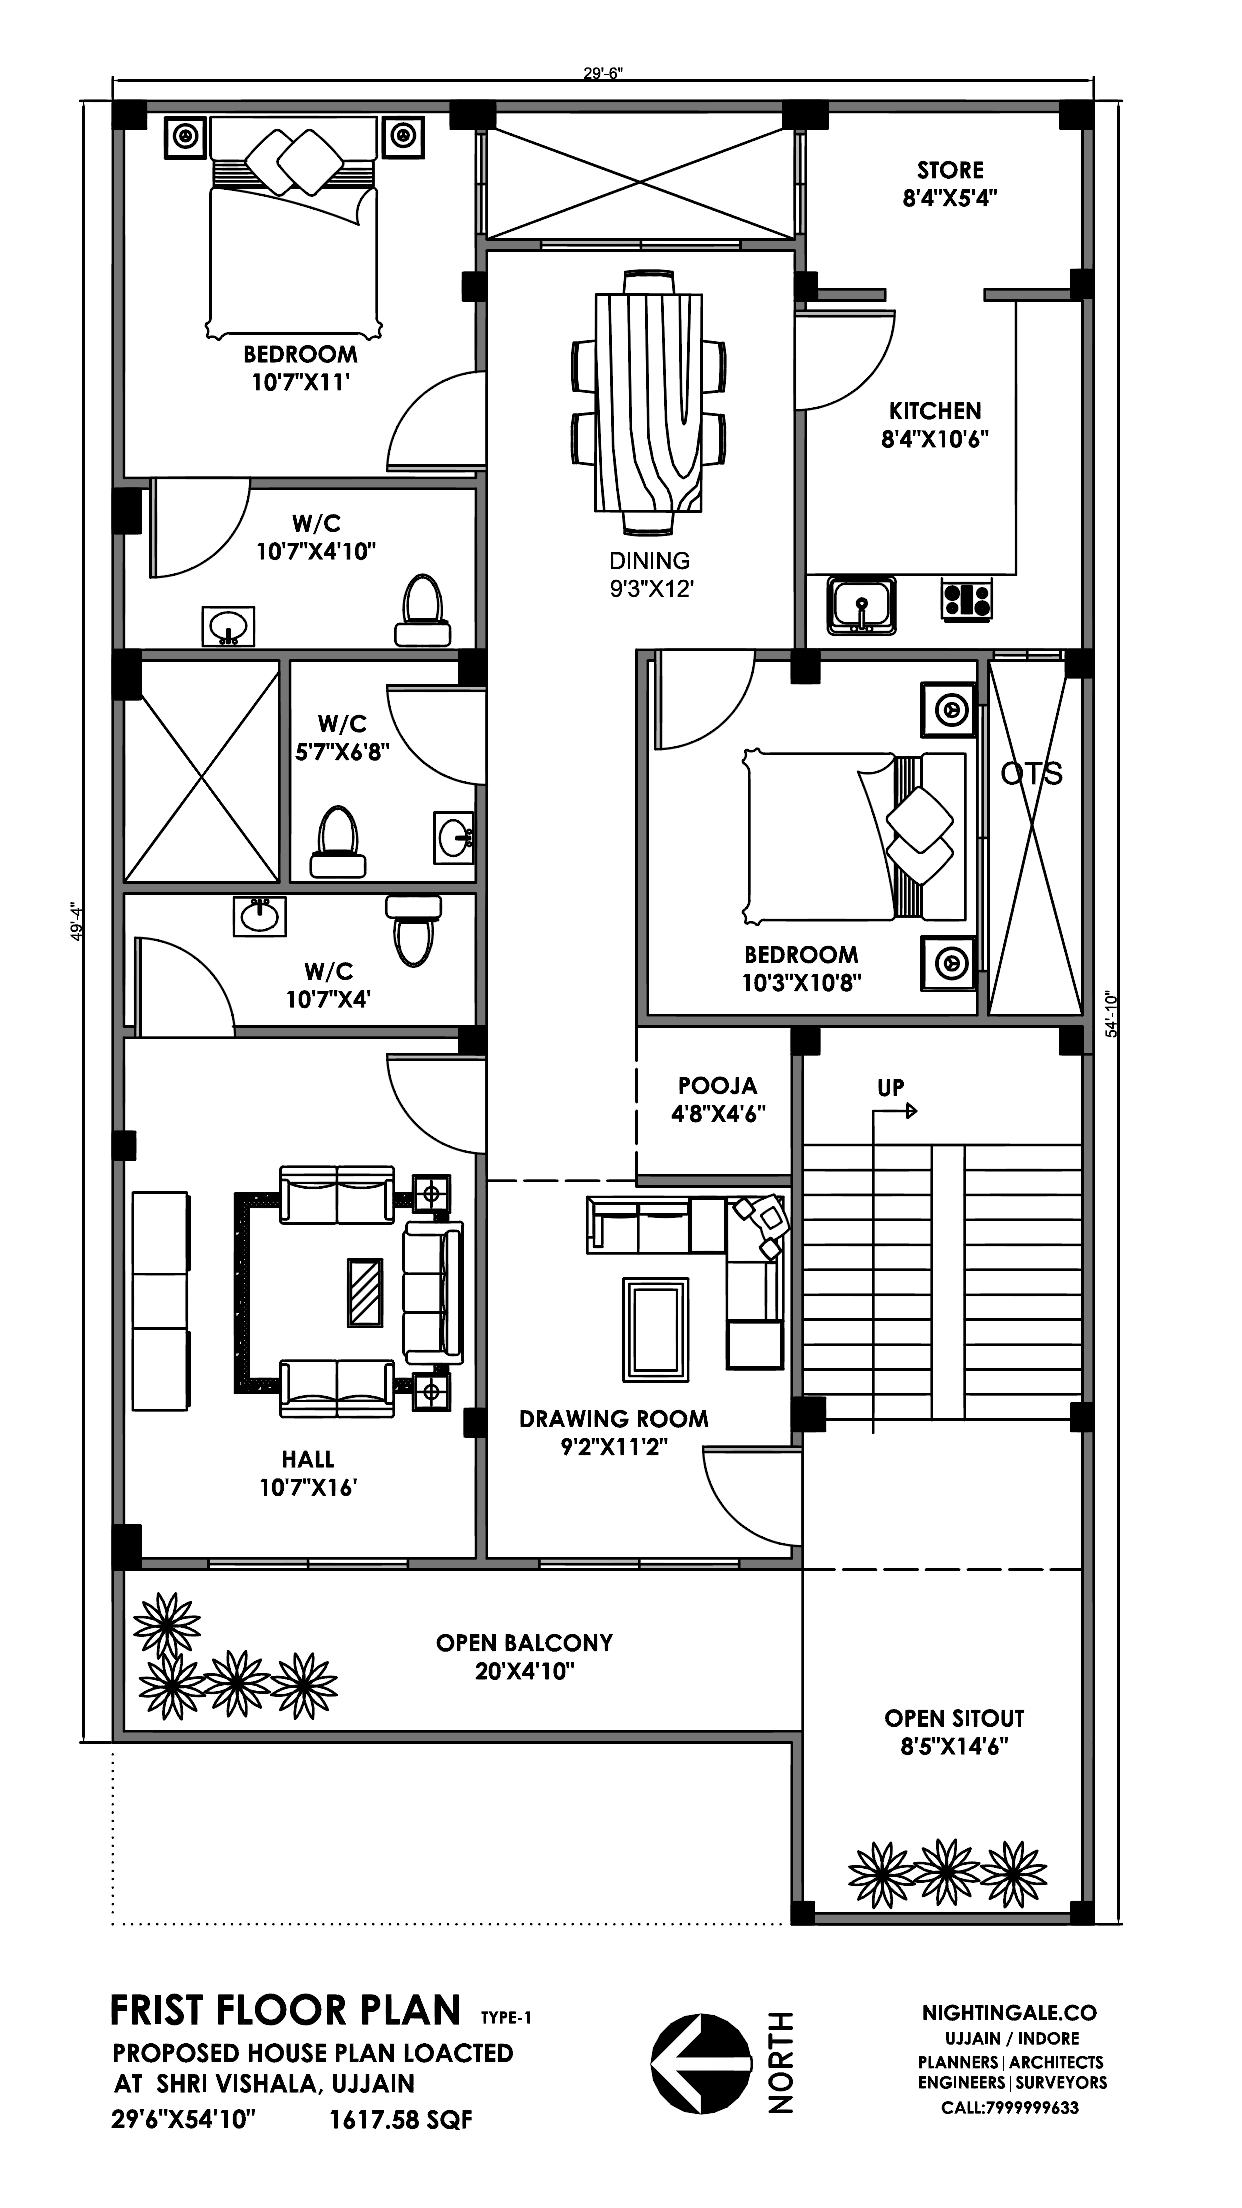door: (692, 1442, 787, 1554), (379, 372, 475, 478), (130, 919, 226, 1022), (810, 305, 899, 412), (146, 491, 250, 582), (384, 679, 458, 795), (381, 1045, 456, 1156), (652, 666, 745, 754)
